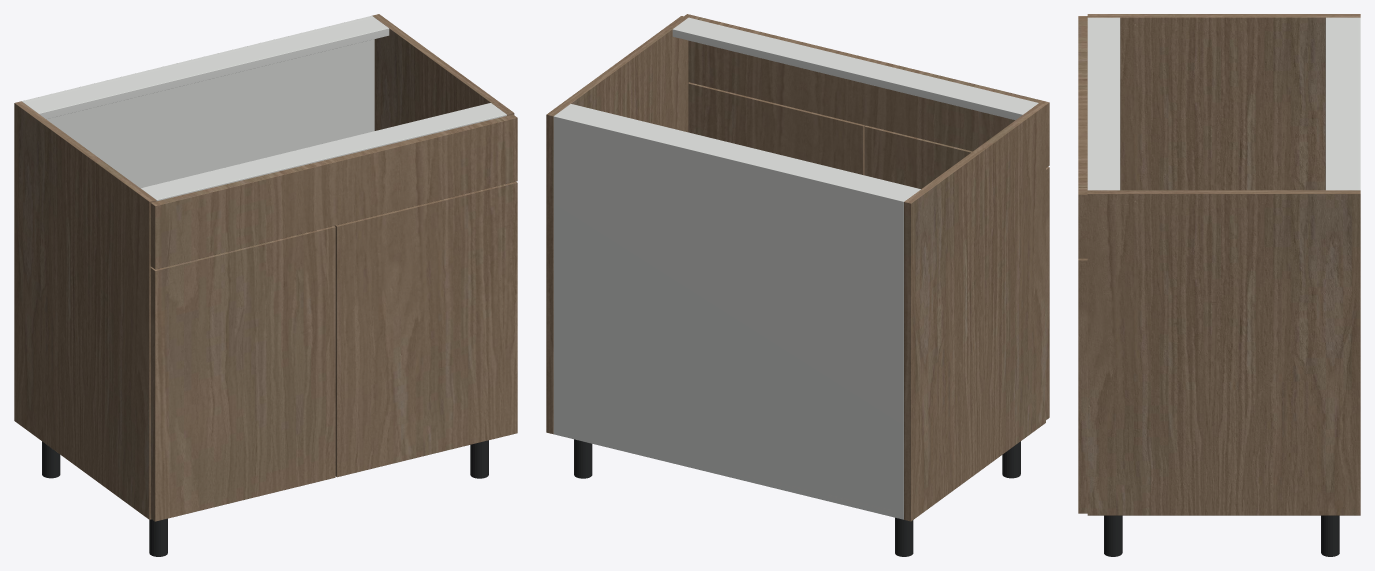
The model's file is oppein-pb-mnw-sb36.glb.
3 views of the same model, side by side, from view 1: azimuth 30°, elevation 25°; view 2: azimuth 150°, elevation 25°; view 3: azimuth 270°, elevation 25° (orthographic).
Parts seen in each view (by area): view 1: Door, Door.001, Cabinet side, Cabinet back, False drawer front, Top support rail, Cabinet side.001, Top support rail.001, Adjustable foot.001, Adjustable foot.003; view 2: Cabinet back, Cabinet side, False drawer front, Cabinet side.001, Door.001, Top support rail.001, Door, Top support rail, Adjustable foot, Adjustable foot.002; view 3: Cabinet side.001, Cabinet side, Top support rail.001, Top support rail, Door.001, False drawer front, Cabinet back, Adjustable foot.003, Adjustable foot.002.
Part boxes in pixels (x1,y1,x2,y2): Door: [150, 226, 335, 521]; Door.001: [335, 181, 517, 477]; Cabinet side: [14, 101, 156, 519]; Cabinet back: [21, 15, 374, 188]; False drawer front: [150, 114, 517, 269]; Top support rail: [23, 17, 389, 119]; Cabinet side.001: [372, 14, 514, 130]; Top support rail.001: [141, 103, 506, 201]; Adjustable foot.001: [149, 518, 167, 556]; Adjustable foot.003: [470, 440, 488, 478]; Cabinet back: [553, 114, 905, 519]; Cabinet side: [904, 103, 1045, 521]; False drawer front: [684, 14, 1049, 167]; Cabinet side.001: [546, 16, 688, 434]; Door.001: [688, 82, 865, 175]; Top support rail.001: [672, 17, 1038, 120]; Door: [864, 125, 1049, 419]; Top support rail: [556, 104, 920, 199]; Adjustable foot: [895, 517, 913, 556]; Adjustable foot.002: [574, 439, 592, 478]; Cabinet side.001: [1087, 190, 1360, 515]; Cabinet side: [1087, 14, 1360, 190]; Top support rail.001: [1087, 17, 1120, 190]; Top support rail: [1325, 17, 1357, 190]; Door.001: [1078, 258, 1087, 513]; False drawer front: [1078, 16, 1087, 258]; Cabinet back: [1355, 17, 1360, 190]; Adjustable foot.003: [1104, 515, 1122, 556]; Adjustable foot.002: [1321, 515, 1339, 556].
Size of the model in its own units: 0.9144 by 0.8763 by 0.6064.
Materials: 3 (1 with a texture image).
